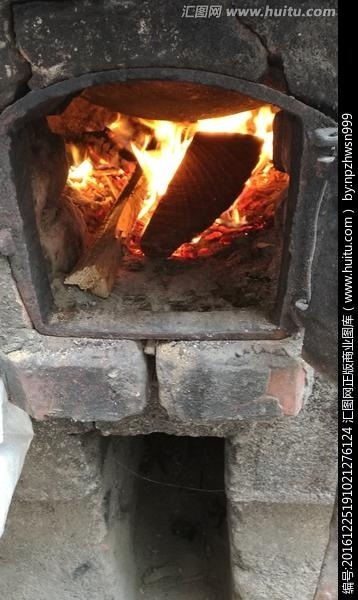fire: (126, 116, 194, 222), (191, 103, 278, 139), (64, 143, 113, 195)
